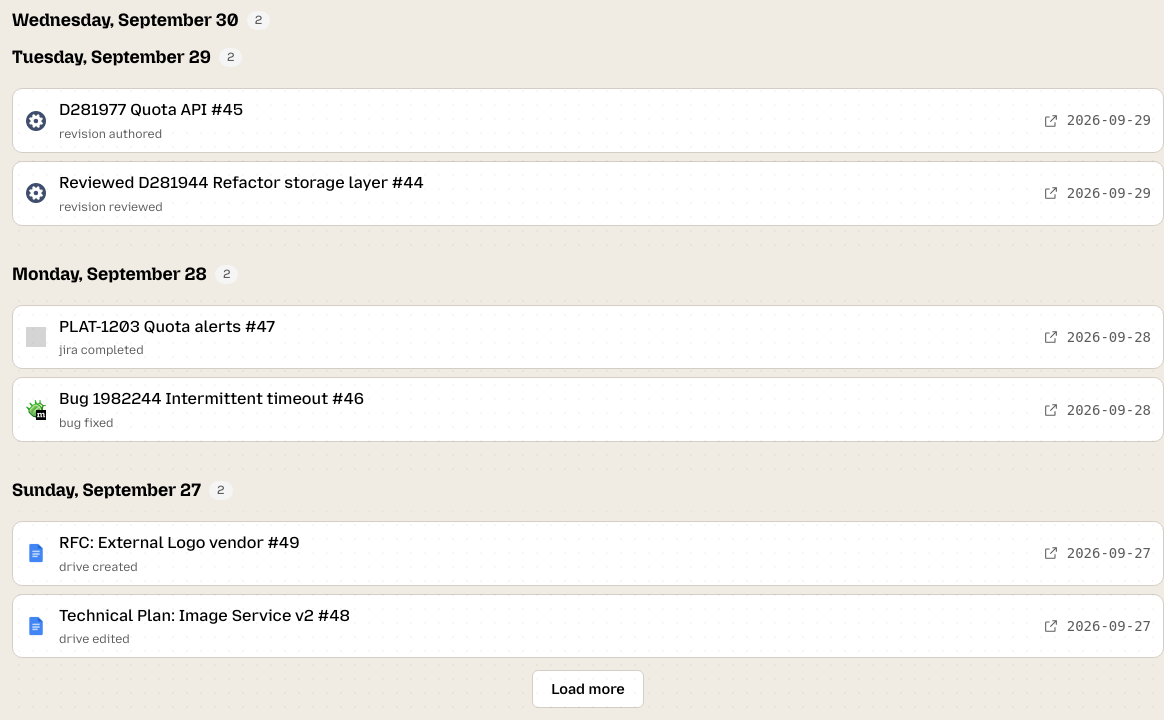
Test case: Logbook › loads further pages with a cursor
The image size is (1164, 720).
(page scrolled)
Click the button "Load more" at [588, 690], box [532, 670, 644, 708]
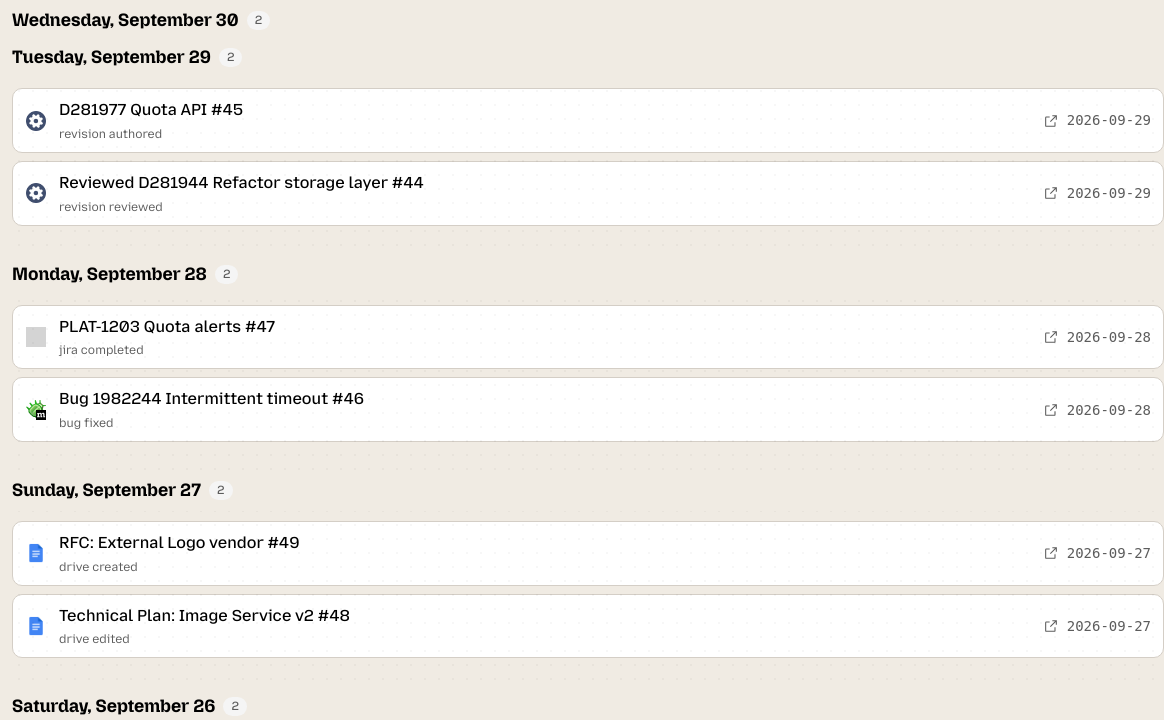
expect the button "Load more" is gone: met
